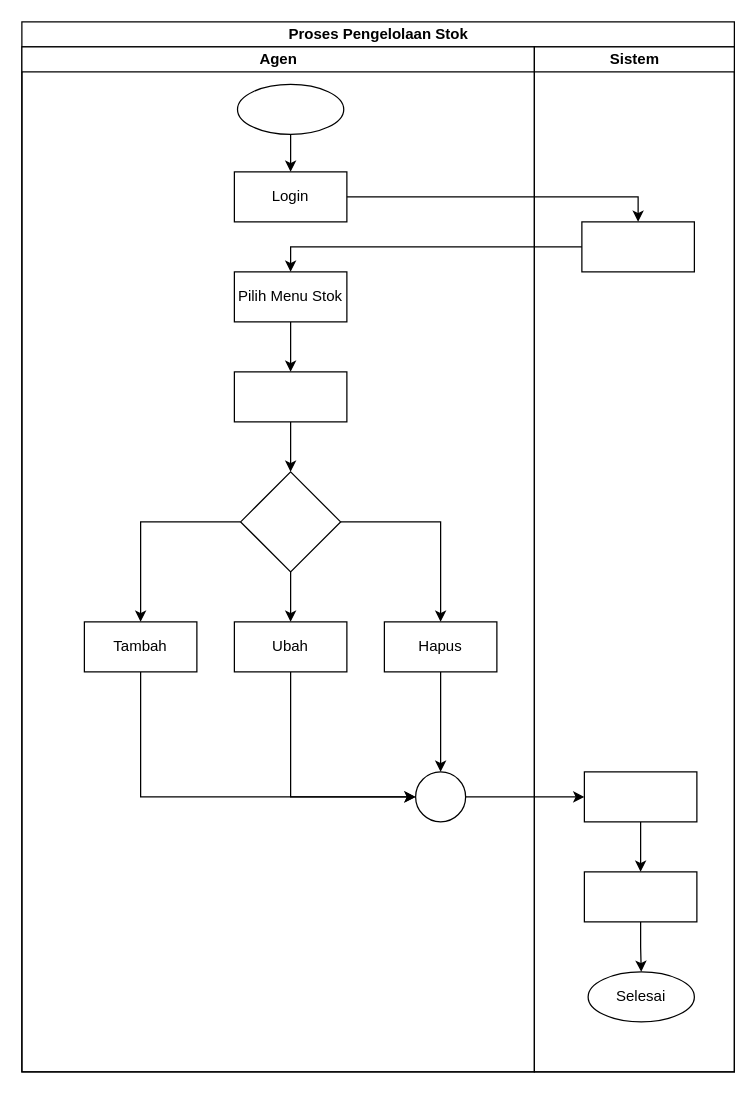
The diagram is 756 pixels wide and 1094 high, and some of its shapes have lost their labels. The shapes that lost their labels are listed below. From the top down, each one's centre as x and y in pixels, then its label:
(290,108): Mulai
(637,246): Menampilkan Dashboard
(290,396): Pilih Aksi
(640,796): Validasi
(640,896): Simpan Perubahan
